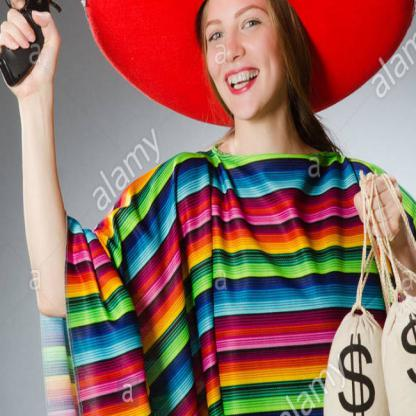gun: (0, 0, 65, 88)
